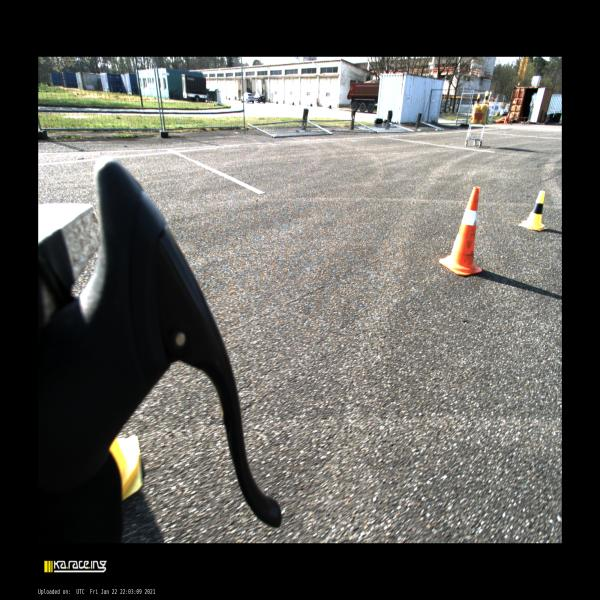large_orange_cone: (438, 186, 482, 276)
yellow_cone: (518, 190, 546, 230), (473, 94, 481, 107), (482, 91, 489, 105)
